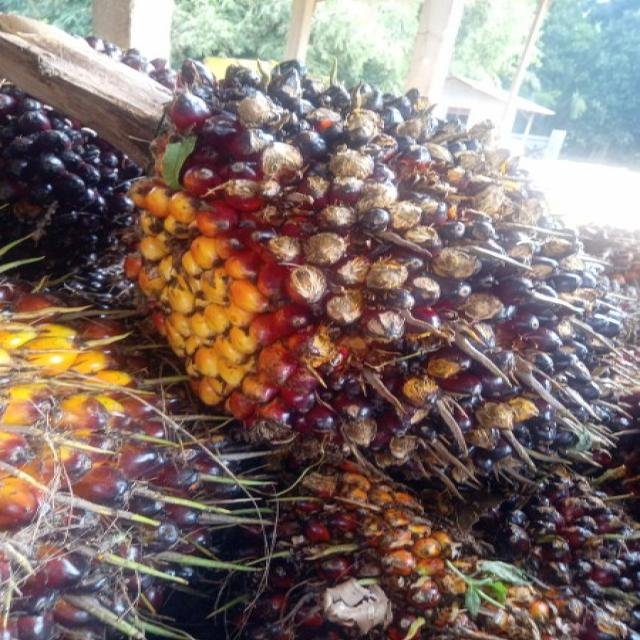fraksi 00: (122, 41, 640, 507)
